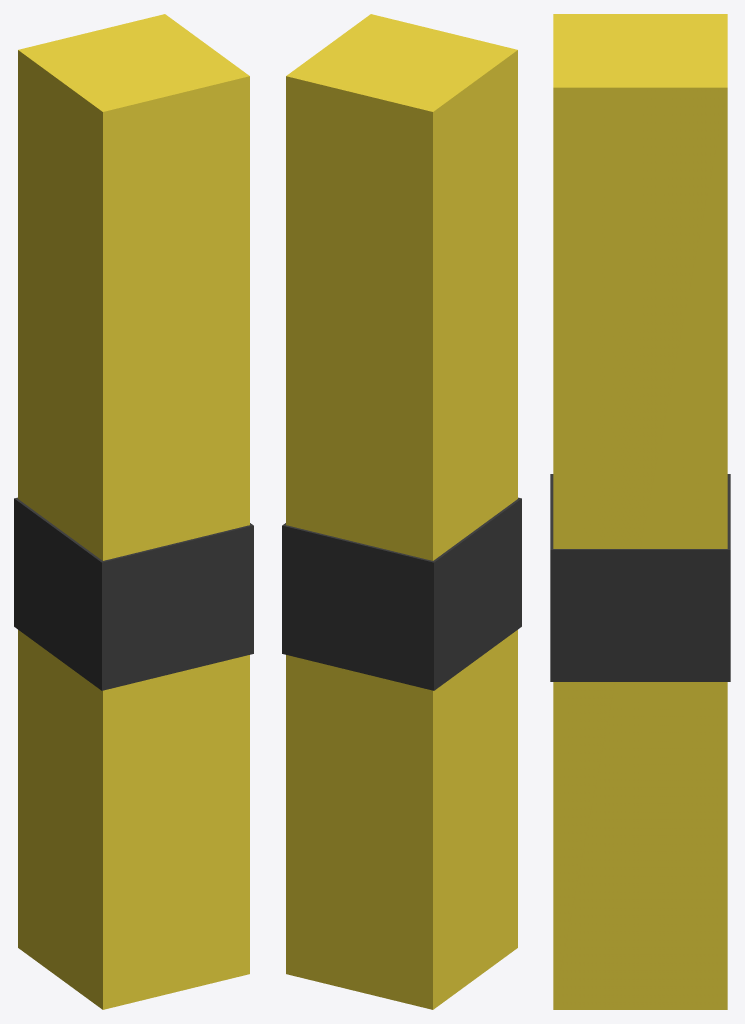
File: kerb_marker.glb
The picture shows the model from 3 angles, left to right: view 1: azimuth 30°, elevation 25°; view 2: azimuth 150°, elevation 25°; view 3: azimuth 270°, elevation 25°; orthographic projection. The views are drawn at different scales.
Visible parts, largest first — view 1: kerb_marker; view 2: kerb_marker; view 3: kerb_marker.
Part boxes in pixels (bbox=[...]): kerb_marker: bbox=[14, 14, 253, 1009]; kerb_marker: bbox=[282, 14, 521, 1009]; kerb_marker: bbox=[550, 14, 730, 1009].
Size of the model in its own units: 0.124 by 0.7 by 0.124.
